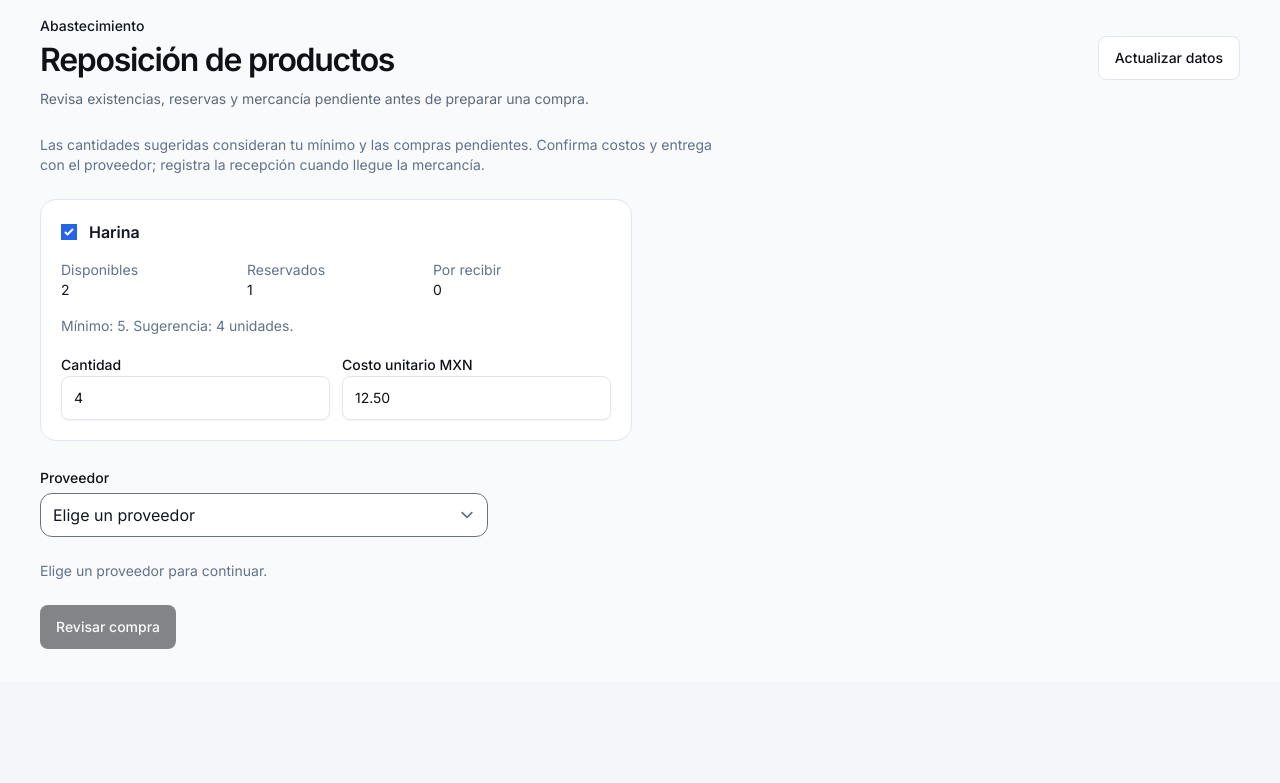
blocks a stale purchase and requires reviewing current evidence again
Expected: the text "Harina" is shown, [61,222,140,242]
Select "Proveedor registrado" in the dropdown labelled "Proveedor" at (264, 515), box [40,493,488,537]
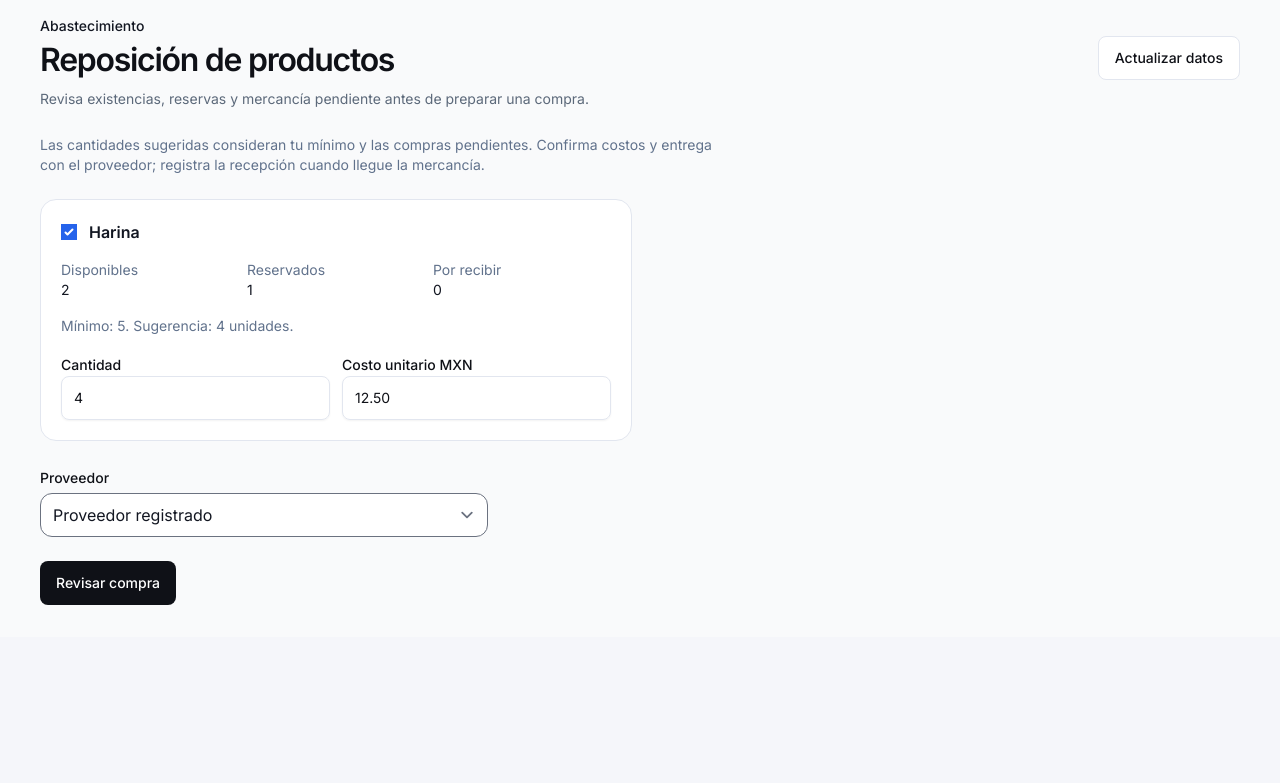
Click the button "Revisar compra" at (108, 583), box [40,561,176,605]
(page scrolled)
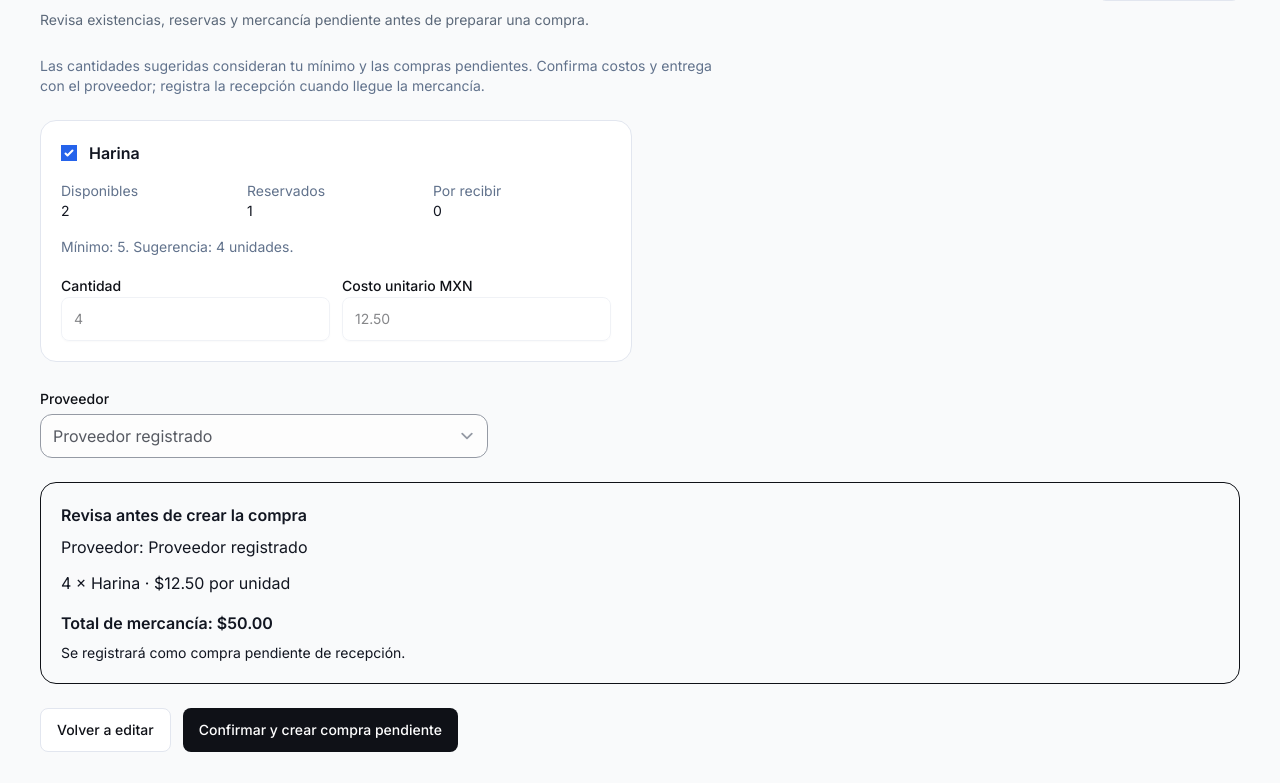
Click the button "Confirmar y crear compra pendiente" at (320, 730), box [183,708,458,752]
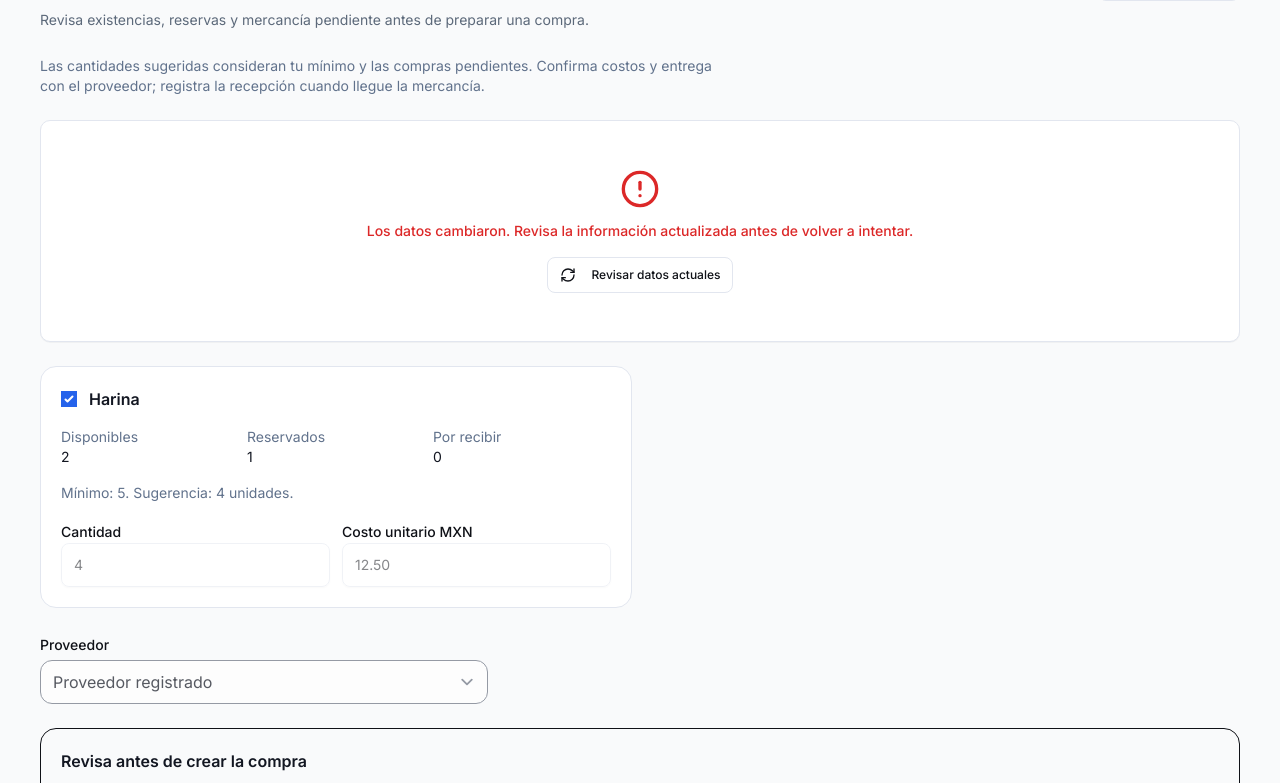
Result: the message shows "Los datos cambiaron" at [367,222,913,239]
Click the button "Revisar datos actuales" at (640, 275), box [546,257,734,293]
(page scrolled)
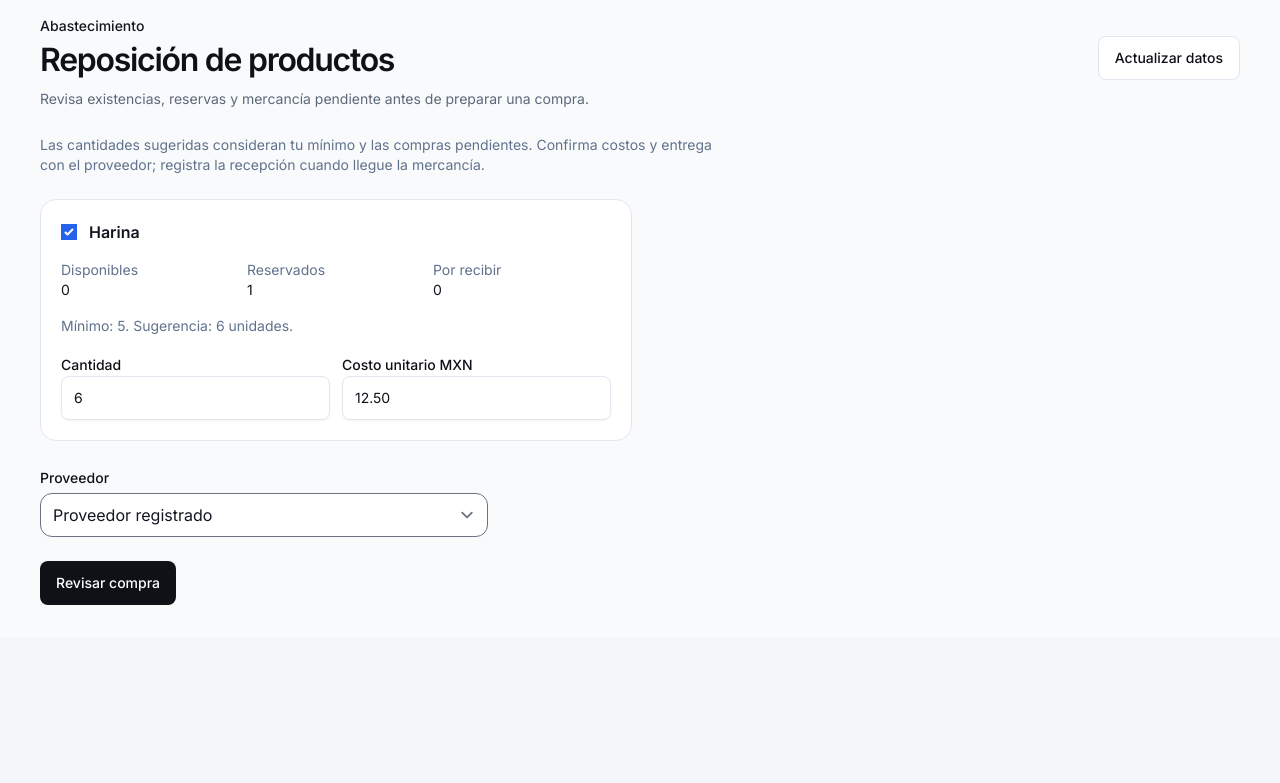
Result: the text "Mínimo: 5. Sugerencia: 6 unidades." is shown at [61,317,293,334]
Result: the button "Revisar compra" is shown at [40,561,176,605]
